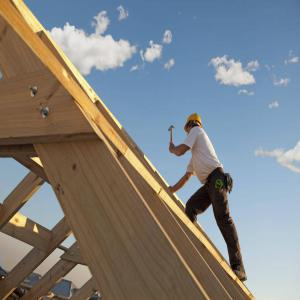yellow: (185, 114, 204, 138)
